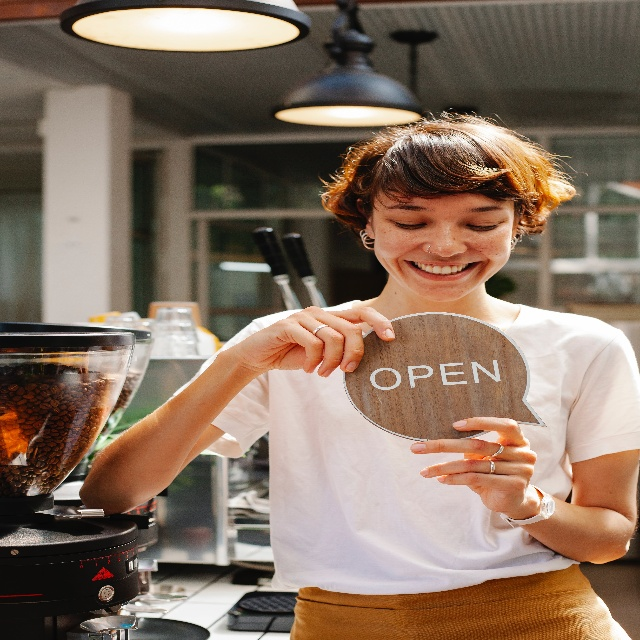Sin_guantes: (409, 416, 537, 513), (235, 306, 396, 379)
